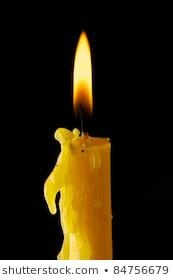fire: (69, 27, 93, 121)
